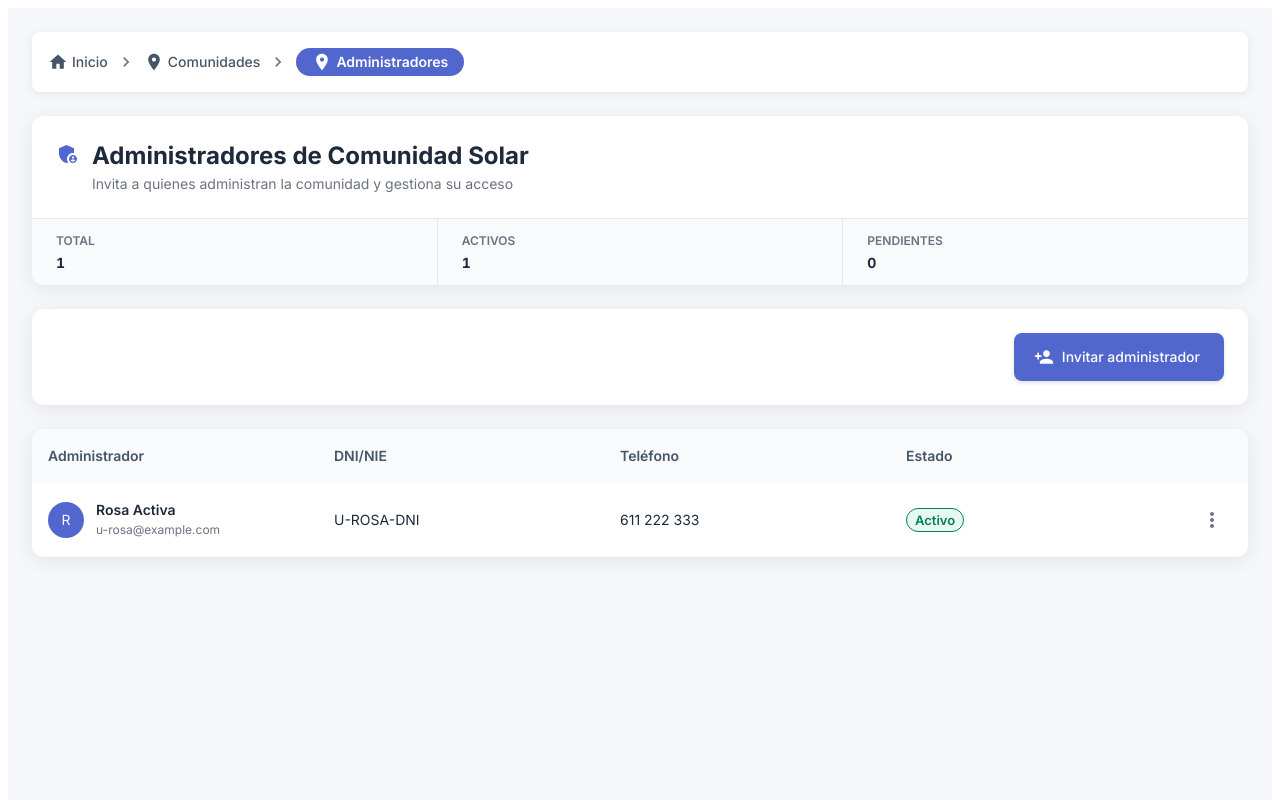
Scenario: the row actions › UI-ADM-005 suspends an admin, and the row shows Suspendido
Expected: the text "Rosa Activa" is shown, [96,501,176,518]
Click the button named "Más acciones para Rosa Activa". click: click(1212, 520)
box: [1195,503,1229,537]
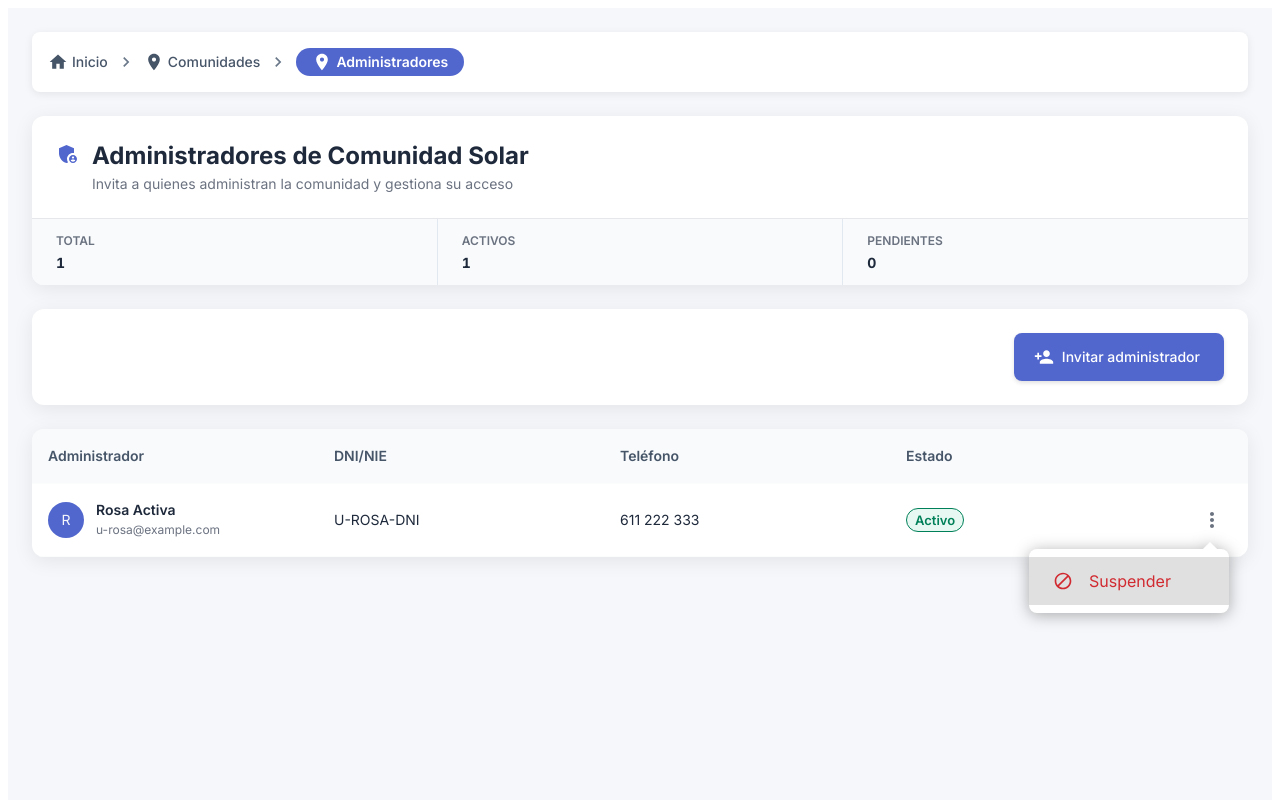
Click the menu item "Suspender". click: click(1129, 581)
box: [1029,557,1229,605]
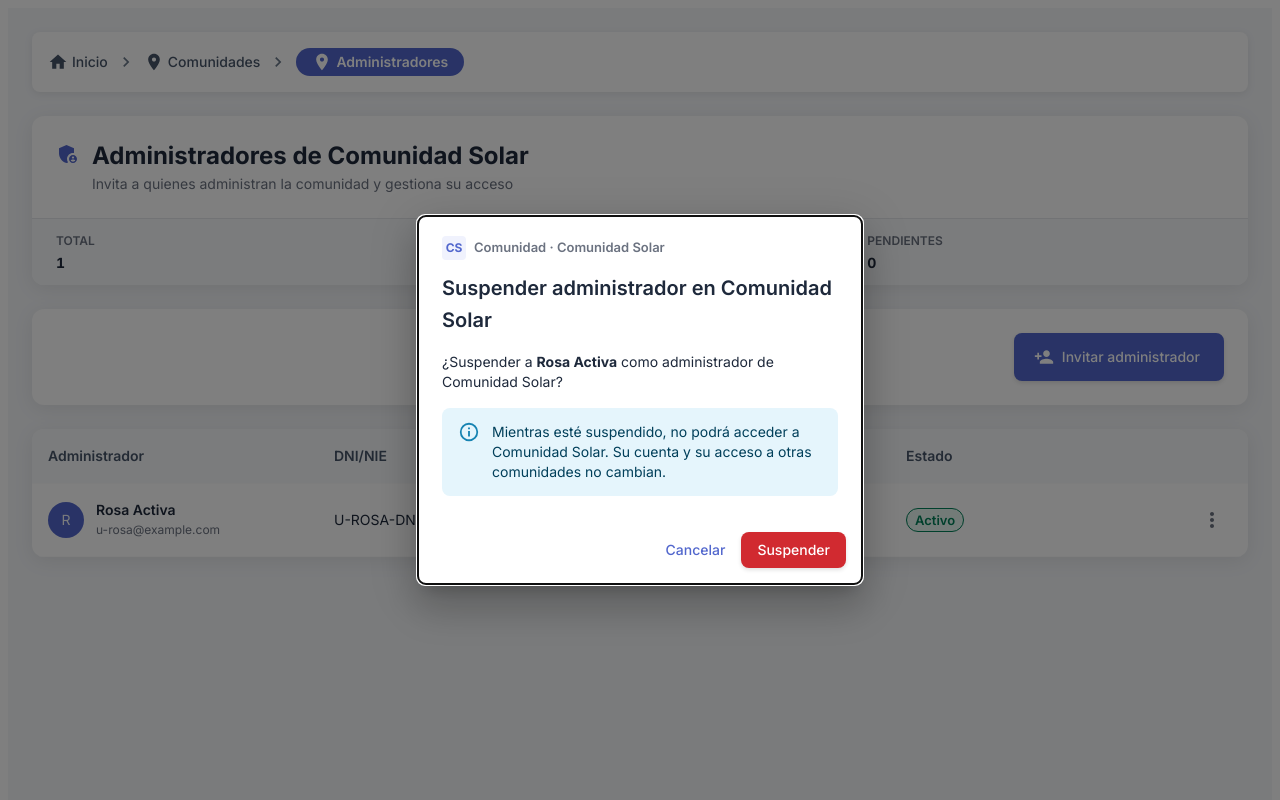
Click the button "Suspender". click: click(794, 550)
box: [741,532,846,568]
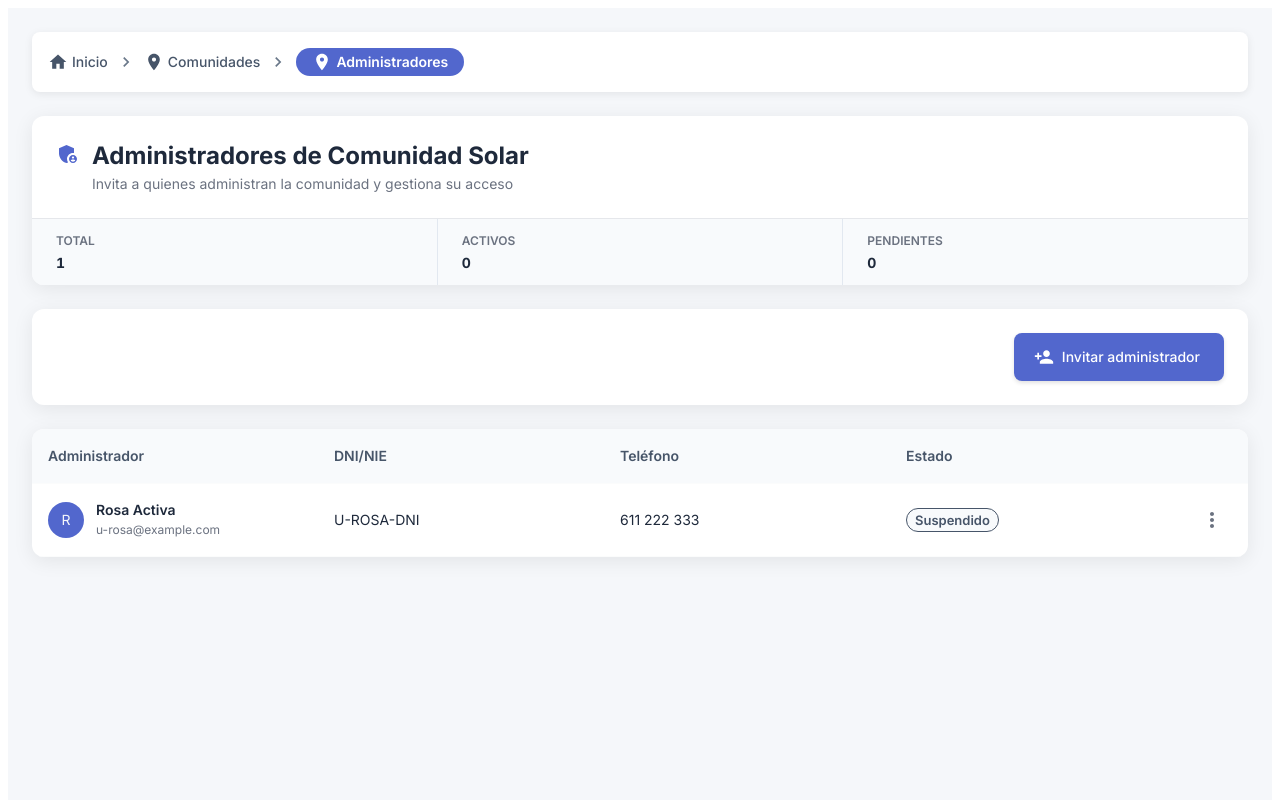
Expected: the dialog is gone
Expected: the text "Suspendido" is shown, [915,512,990,528]
